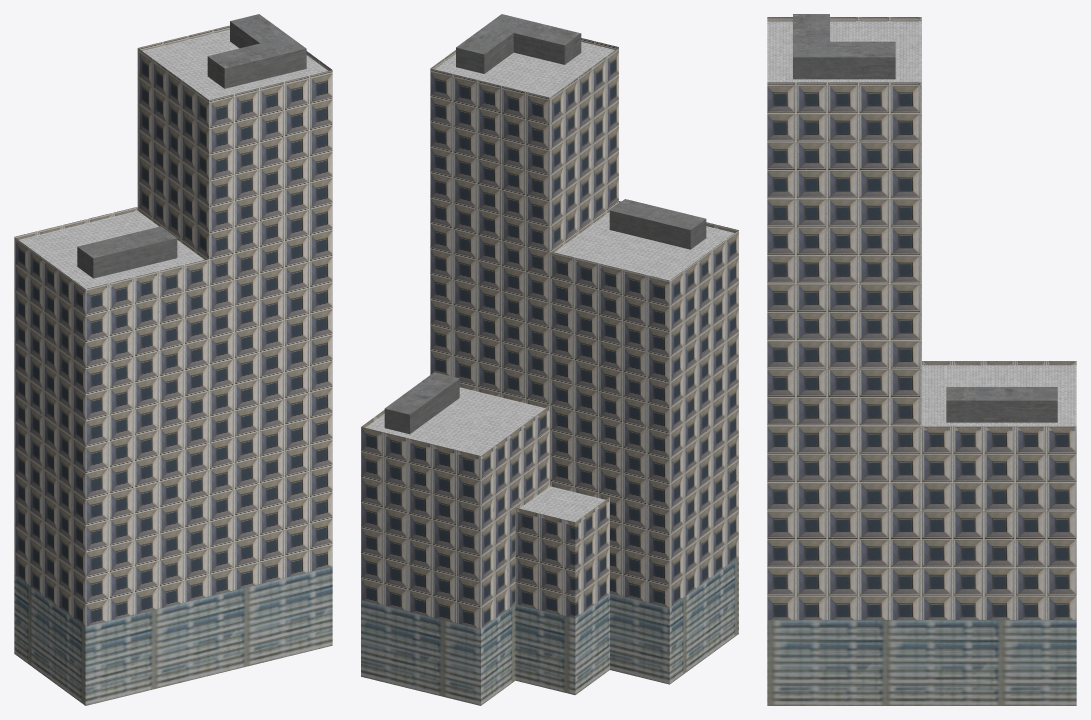
The picture shows the model from 3 angles, left to right: view 1: azimuth 30°, elevation 25°; view 2: azimuth 150°, elevation 25°; view 3: azimuth 270°, elevation 25°; orthographic projection. The views are drawn at different scales.
Parts seen in each view (by area): view 1: Object_1, Object_2, Object_8, Object_10, Object_9, Object_11, Object_4, Object_3; view 2: Object_1, Object_2, Object_7, Object_8, Object_10, Object_9, Object_11, Object_12, Object_6, Object_3, Object_5, Object_4; view 3: Object_1, Object_2, Object_7, Object_9, Object_10, Object_12, Object_5, Object_3.
Part boxes in pixels (<box>): Object_1: <box>14,27,332,626</box>; Object_2: <box>14,566,332,705</box>; Object_8: <box>19,210,204,288</box>; Object_10: <box>207,14,306,88</box>; Object_9: <box>142,29,327,99</box>; Object_11: <box>77,226,177,278</box>; Object_4: <box>14,207,209,292</box>; Object_3: <box>137,25,332,103</box>; Object_1: <box>361,38,738,628</box>; Object_2: <box>361,557,738,705</box>; Object_7: <box>365,387,545,455</box>; Object_8: <box>554,212,734,280</box>; Object_10: <box>456,14,581,73</box>; Object_9: <box>434,42,614,97</box>; Object_11: <box>609,199,706,249</box>; Object_12: <box>384,372,459,434</box>; Object_6: <box>520,486,605,521</box>; Object_3: <box>430,47,618,101</box>; Object_5: <box>361,405,549,459</box>; Object_4: <box>550,201,738,284</box>; Object_1: <box>767,17,1076,619</box>; Object_2: <box>767,620,1076,705</box>; Object_7: <box>922,365,1076,426</box>; Object_9: <box>767,21,921,82</box>; Object_10: <box>793,14,895,79</box>; Object_12: <box>946,387,1057,422</box>; Object_5: <box>922,361,1076,430</box>; Object_3: <box>767,82,921,86</box>.
Size of the model in its own units: 1283 by 1283 by 2935.
13 materials, 13 textured.
